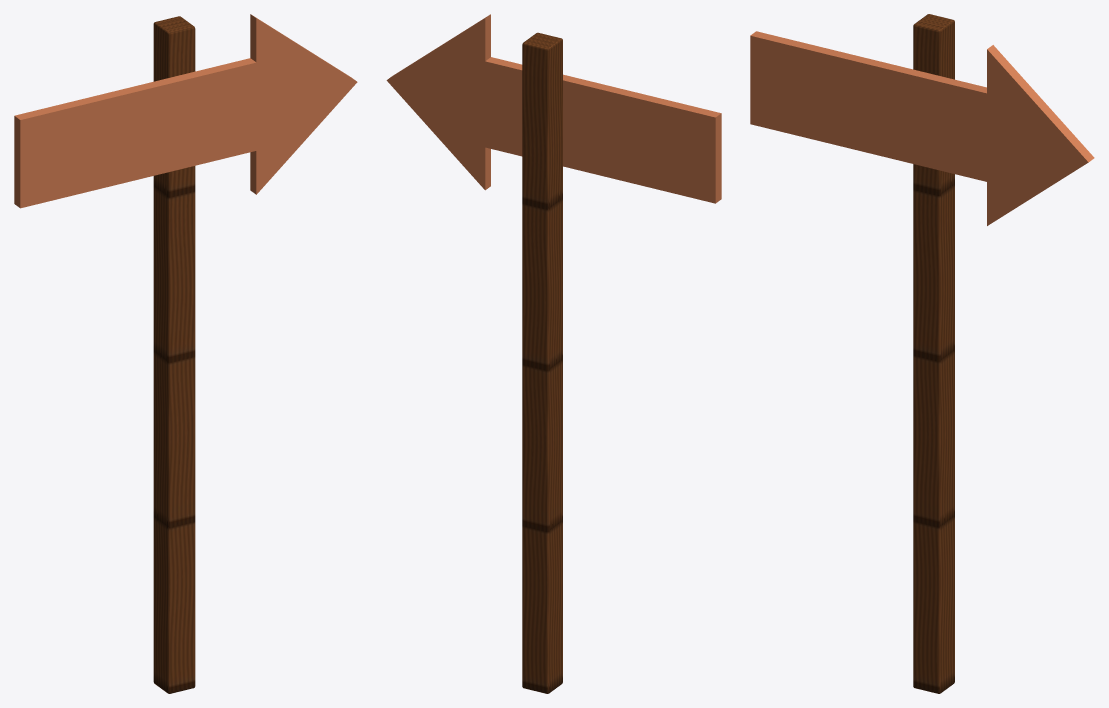
Rendered from extraction-routes-and-objectives-evacuation-arrow-post-399c63fe__22130.glb.
3 views of the same model, side by side, from view 1: azimuth 30°, elevation 25°; view 2: azimuth 150°, elevation 25°; view 3: azimuth 330°, elevation 25° (orthographic). The views are drawn at different scales.
Parts seen in each view (by area): view 1: evacuation-arrow-post; view 2: evacuation-arrow-post; view 3: evacuation-arrow-post.
Boxes of the visible parts, box(x1,y1,x2,y2) form: evacuation-arrow-post: box(14, 14, 357, 693); evacuation-arrow-post: box(386, 14, 721, 693); evacuation-arrow-post: box(750, 14, 1094, 693).
Size of the model in its own units: 0.8 by 1.5 by 0.0925.
2 materials, 1 textured.
